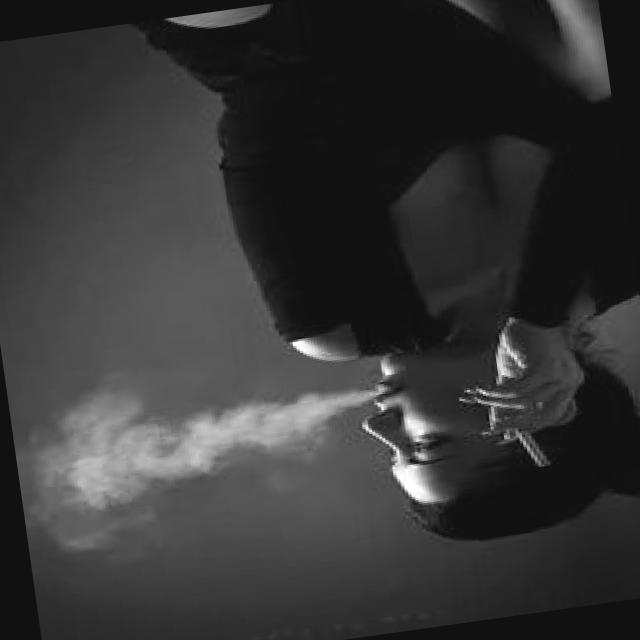smoke: (509, 424, 551, 474)
